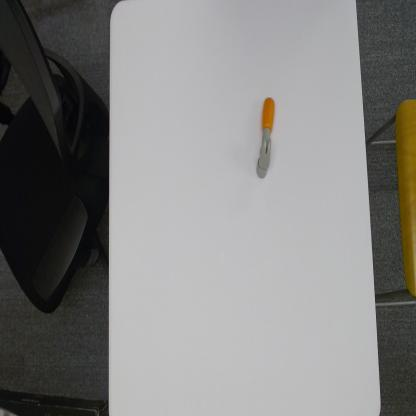Hammer: (257, 97, 274, 179)
